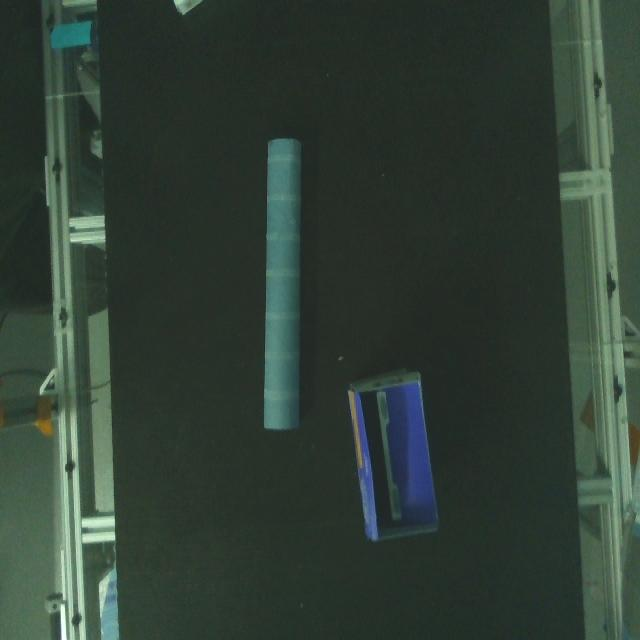paper: (339, 362, 455, 560), (255, 133, 318, 444)
